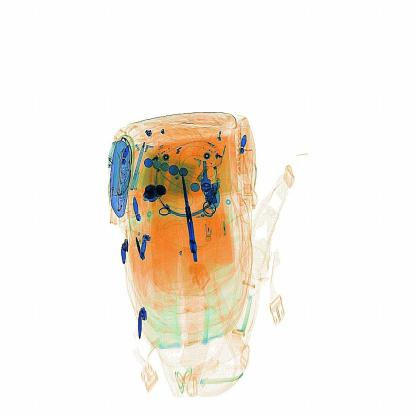gun: (172, 165, 208, 272)
